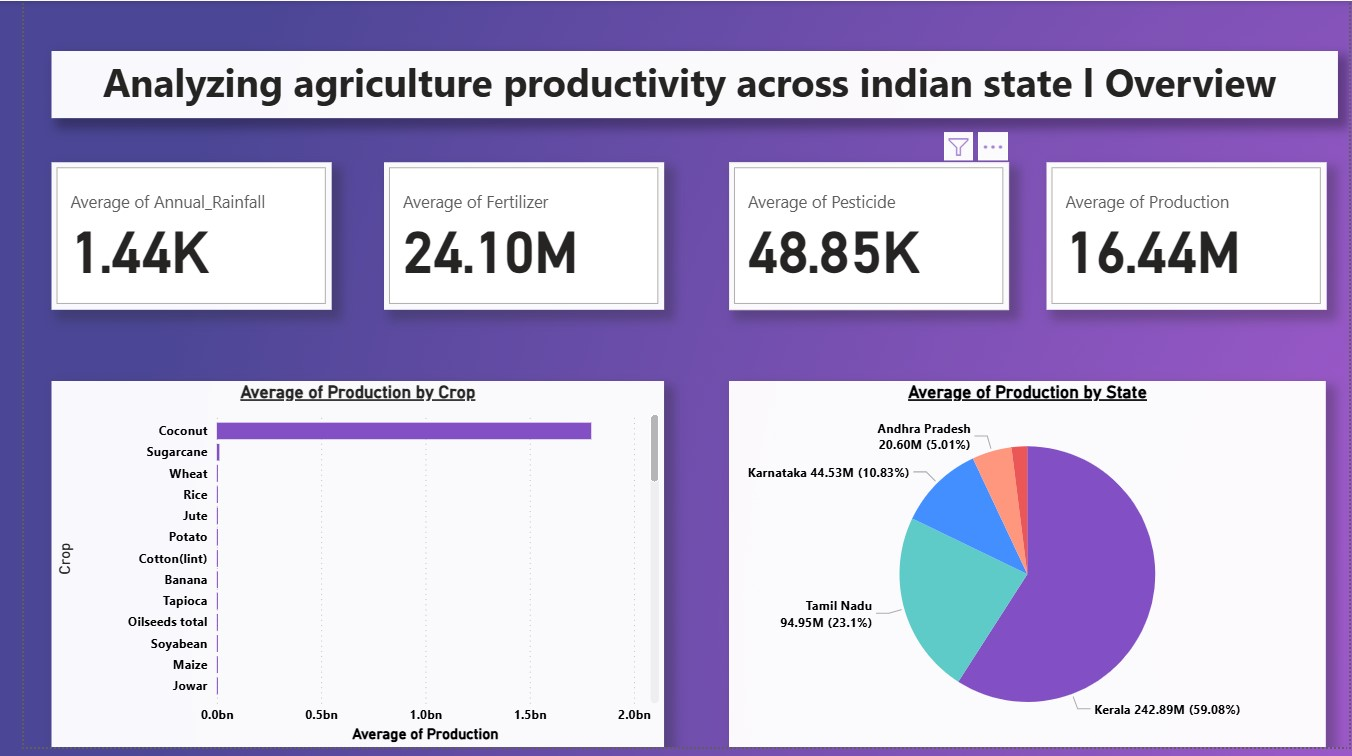

Layout of this report page (visuals, bound fields, positions):
{"tool":"powerbi","page":{"name":"OVERVIEW","canvas":[1280,720],"ordinal":0},"visuals":[{"type":"textbox","box":[26.1,48,1241.9,64.5],"z":0},{"type":"cardVisual","fields":{"Data":["Avg(e7fa34f53e7a4120831.Annual_Rainfall)"]},"box":[26.1,155.1,270.3,142.7],"z":1000},{"type":"cardVisual","fields":{"Data":["Avg(e7fa34f53e7a4120831.Fertilizer)"]},"box":[347.2,155.1,270.3,142.7],"z":2000},{"type":"cardVisual","fields":{"Data":["Avg(e7fa34f53e7a4120831.Pesticide)"]},"box":[680.6,155.1,270.3,142.7],"z":3000},{"type":"cardVisual","fields":{"Data":["Avg(e7fa34f53e7a4120831.Production)"]},"box":[986.6,155.1,270.3,142.7],"z":4000},{"type":"barChart","fields":{"Category":["e7fa34f53e7a4120831.Crop"],"Y":["Avg(e7fa34f53e7a4120831.Production)"]},"box":[26.1,366.4,591.4,354],"z":5000},{"type":"pieChart","fields":{"Category":["e7fa34f53e7a4120831.State"],"Y":["Avg(e7fa34f53e7a4120831.Production)"]},"box":[680.6,366.4,576.3,354],"z":6000}]}

Visuals, with their boxes in screenshot pixels (x1, y1, x2, y2), scaled from the page's 1280x720 canvas onto the 1352x756 screenshot:
textbox: 28/50/1339/118
cardVisual - Avg(e7fa34f53e7a4120831.Annual_Rainfall): 28/163/313/313
cardVisual - Avg(e7fa34f53e7a4120831.Fertilizer): 367/163/652/313
cardVisual - Avg(e7fa34f53e7a4120831.Pesticide): 719/163/1004/313
cardVisual - Avg(e7fa34f53e7a4120831.Production): 1042/163/1328/313
barChart - e7fa34f53e7a4120831.Crop x Avg(e7fa34f53e7a4120831.Production): 28/385/652/755
pieChart - e7fa34f53e7a4120831.State x Avg(e7fa34f53e7a4120831.Production): 719/385/1328/755
